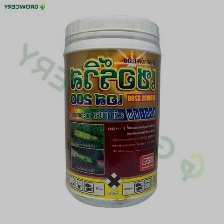insecticide: (61, 11, 166, 211)
